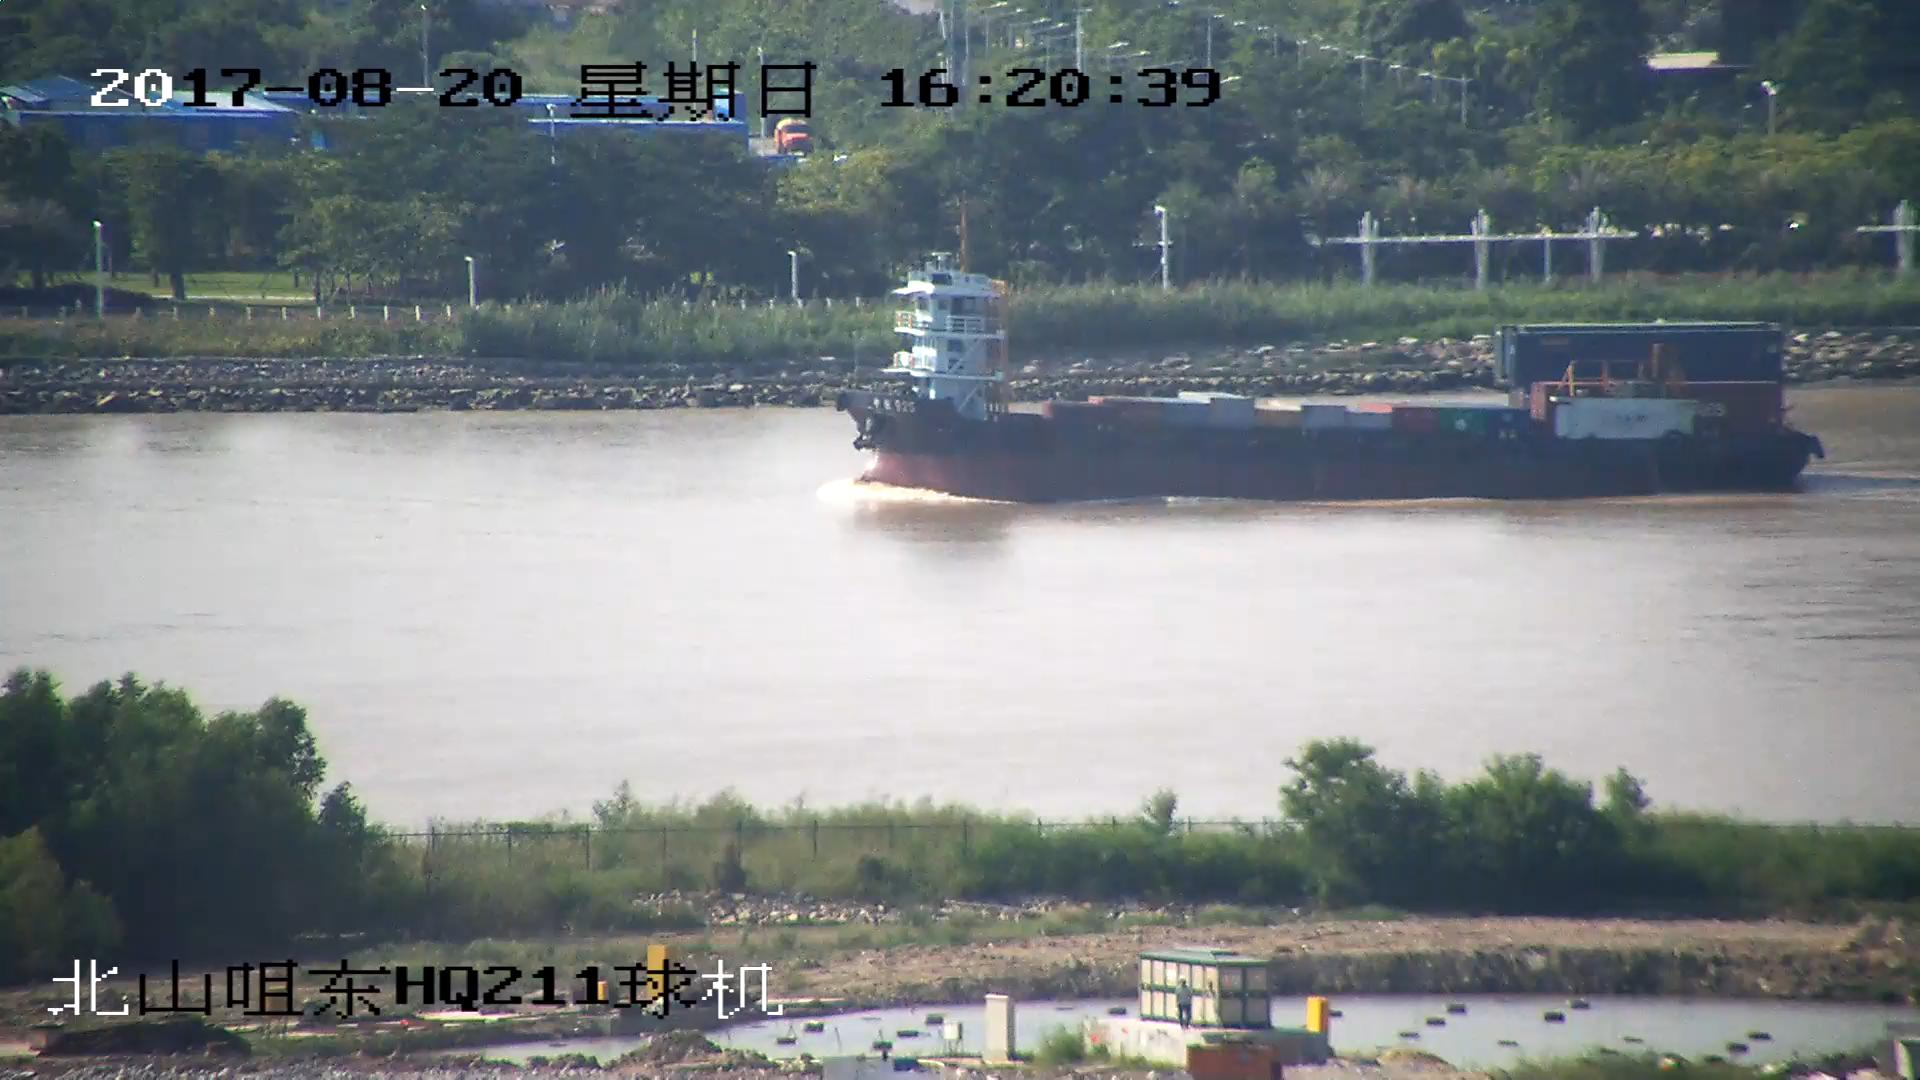container ship: (844, 216, 1825, 507)
